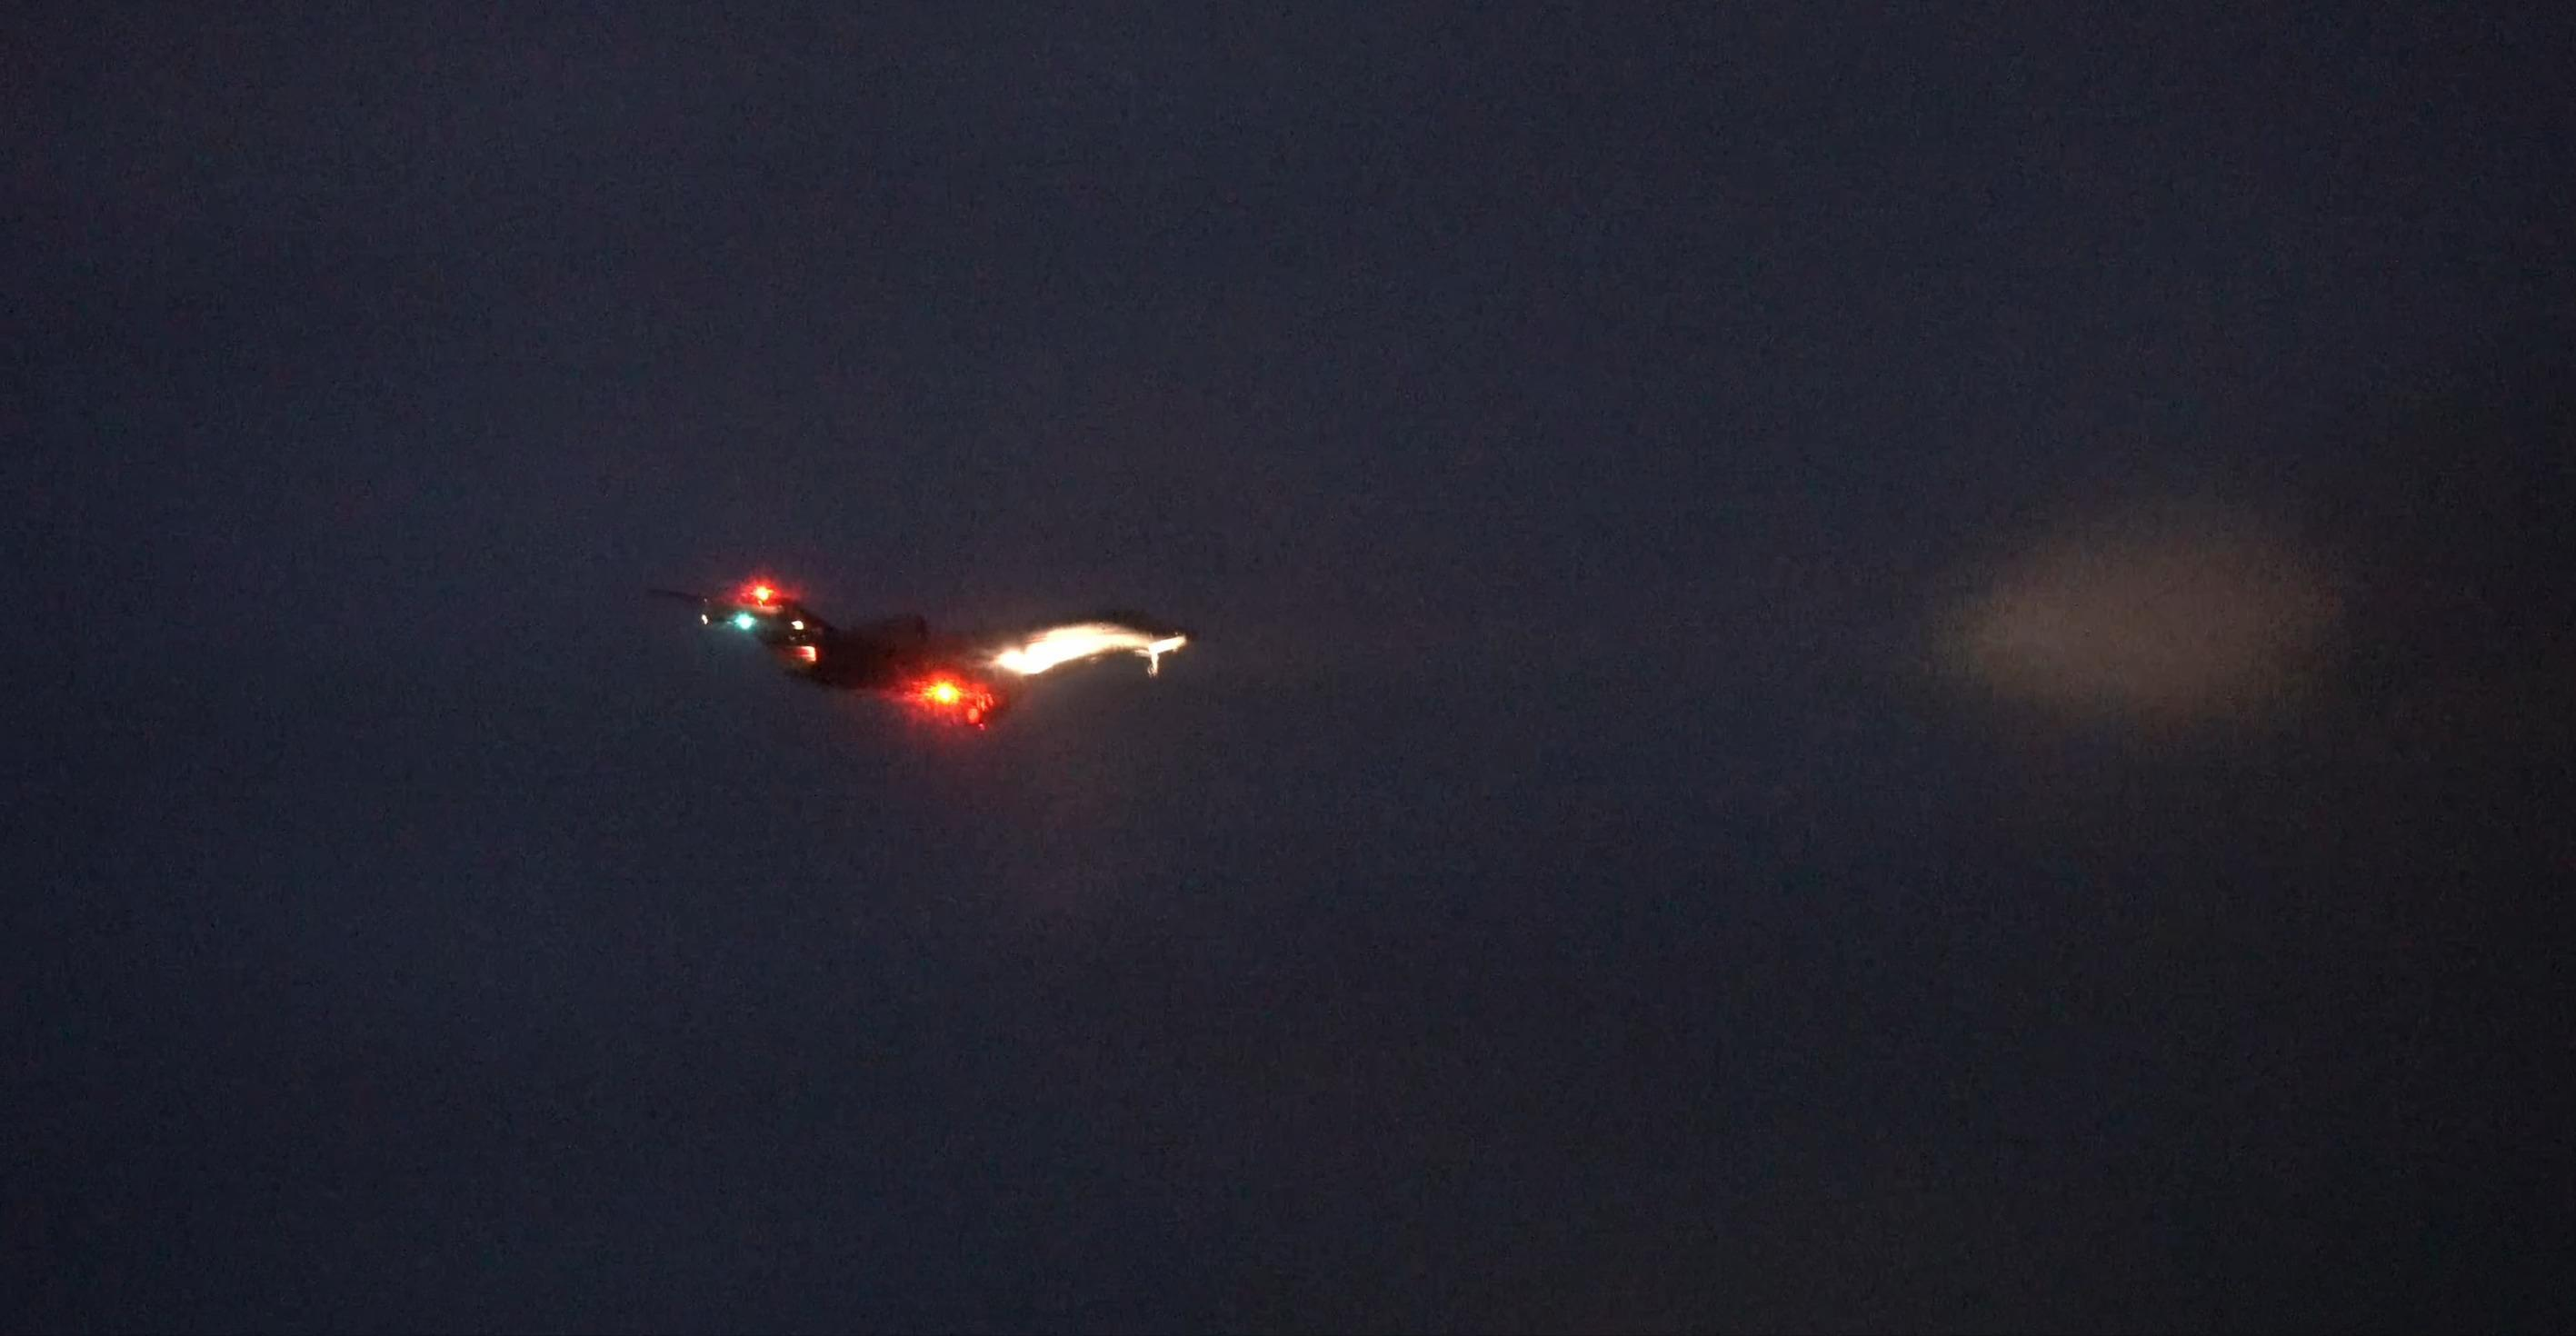Plane: (666, 571, 1233, 760)
